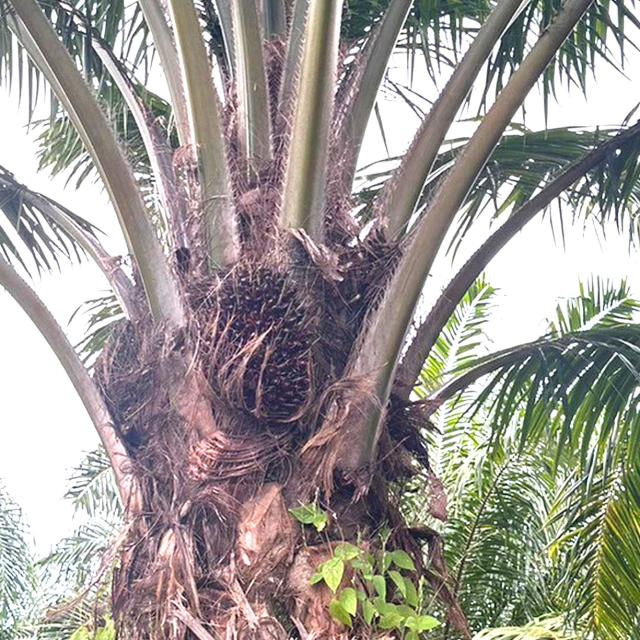ripe: (199, 249, 334, 430)
